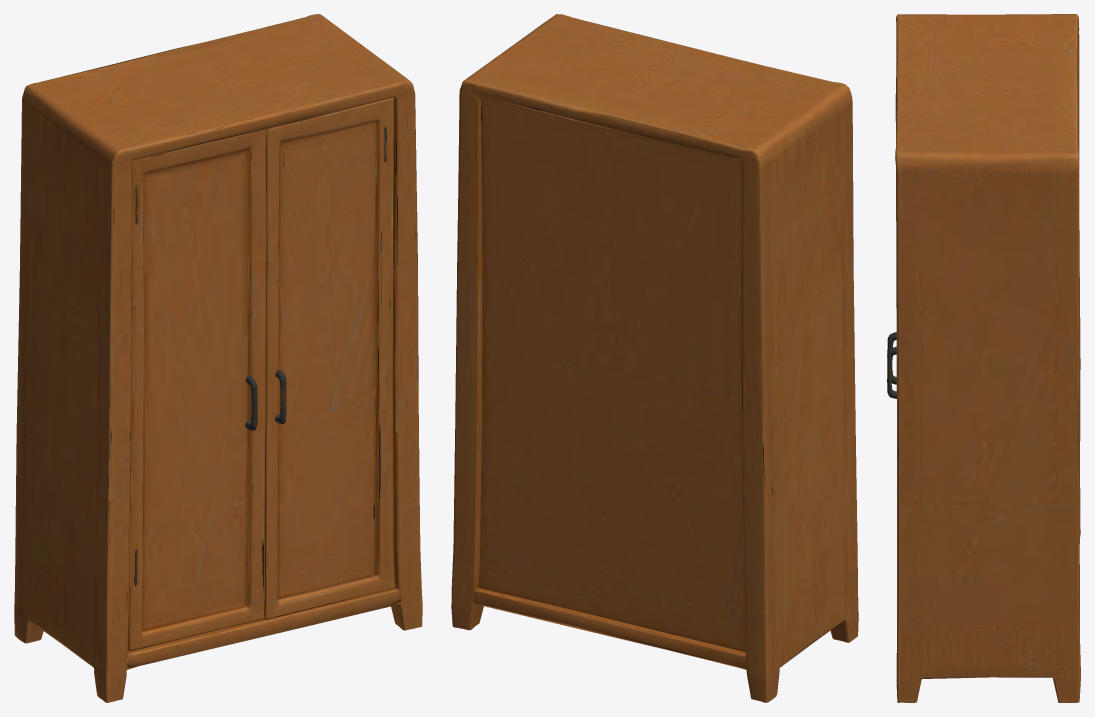
File: wardrobe.classic.glb
The picture shows the model from 3 angles, left to right: view 1: azimuth 30°, elevation 25°; view 2: azimuth 150°, elevation 25°; view 3: azimuth 270°, elevation 25°; orthographic projection.
Visible parts, largest first — view 1: geometry_0; view 2: geometry_0; view 3: geometry_0.
Part boxes in pixels (x1,y1,x2,y2): geometry_0: (14, 14, 422, 702); geometry_0: (451, 14, 858, 702); geometry_0: (887, 14, 1080, 702).
Bounding box in the file's own units: 0.6048 × 1 × 0.3236.
Materials: 1 (1 with a texture image).
